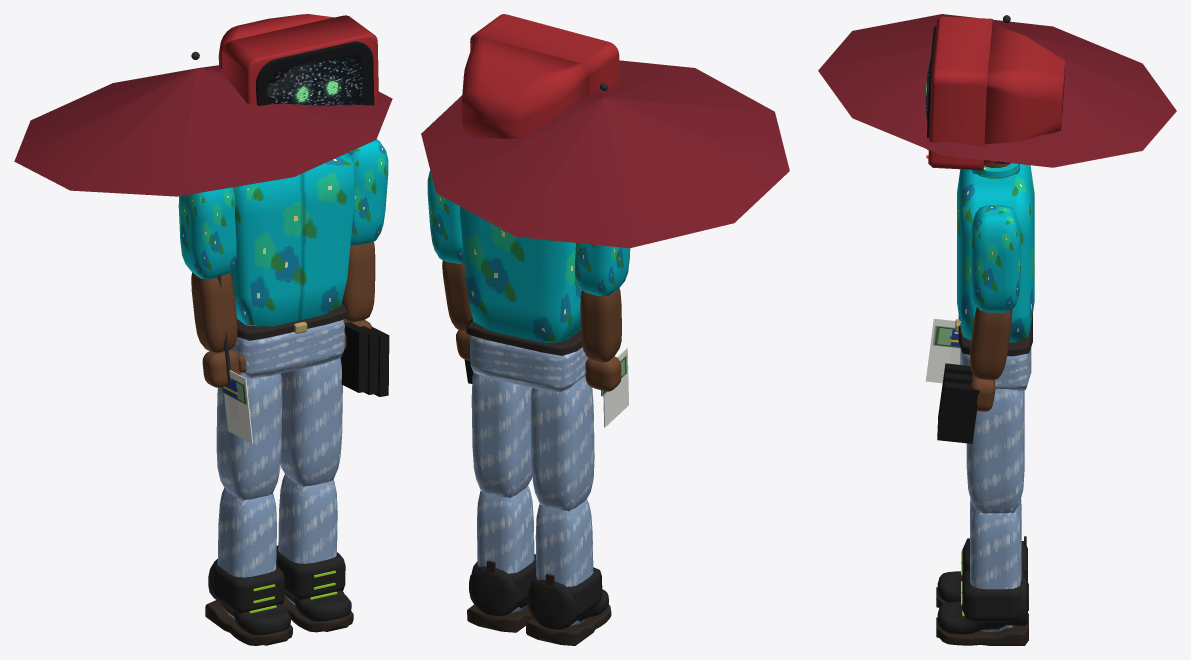
Rendered from tony.glb.
3 views of the same model, side by side, from view 1: azimuth 30°, elevation 25°; view 2: azimuth 150°, elevation 25°; view 3: azimuth 270°, elevation 25° (orthographic). The views are drawn at different scales.
Visible parts, largest first — view 1: p35_prop_umbrella, p35_torso, p35_knee0, p35_head, p35_knee1, p35_hip1, p35_hip0, p35_sh0, p35_body, p35_screen, p35_sh1, p35_el0 (+7 smaller); view 2: p35_prop_umbrella, p35_head, p35_torso, p35_knee0, p35_knee1, p35_hip0, p35_hip1, p35_body, p35_el0, p35_sh0, p35_sh1, p35_el1 (+3 smaller); view 3: p35_prop_umbrella, p35_head, p35_knee1, p35_torso, p35_hip1, p35_sh1, p35_el1, p35_tape2, p35_knee0, p35_upper, p35_body, p35_prop_form (+1 smaller).
Part boxes in pixels (<box>): p35_prop_umbrella: <box>14,51,392,385</box>; p35_torso: <box>230,153,355,326</box>; p35_knee0: <box>205,488,292,645</box>; p35_head: <box>218,14,378,105</box>; p35_knee1: <box>276,474,353,632</box>; p35_hip1: <box>280,358,342,486</box>; p35_hip0: <box>216,373,282,500</box>; p35_sh0: <box>178,187,236,279</box>; p35_body: <box>231,320,344,378</box>; p35_screen: <box>269,56,362,105</box>; p35_sh1: <box>348,139,388,245</box>; p35_el0: <box>191,272,237,353</box>; p35_prop_umbrella: <box>421,60,789,248</box>; p35_head: <box>461,14,619,138</box>; p35_torso: <box>459,206,581,342</box>; p35_knee0: <box>526,499,611,645</box>; p35_knee1: <box>467,485,536,632</box>; p35_hip0: <box>530,376,594,511</box>; p35_hip1: <box>471,373,532,497</box>; p35_body: <box>470,335,588,392</box>; p35_el0: <box>580,288,621,362</box>; p35_sh0: <box>575,243,630,296</box>; p35_sh1: <box>427,170,464,263</box>; p35_el1: <box>442,260,472,331</box>; p35_prop_umbrella: <box>818,14,1176,167</box>; p35_head: <box>926,16,1064,170</box>; p35_knee1: <box>936,506,1028,645</box>; p35_torso: <box>957,164,1034,342</box>; p35_hip1: <box>966,389,1024,513</box>; p35_sh1: <box>970,205,1020,312</box>; p35_el1: <box>970,306,1012,379</box>; p35_tape2: <box>937,382,979,443</box>; p35_knee0: <box>936,498,1028,610</box>; p35_upper: <box>955,163,1032,356</box>; p35_body: <box>960,347,1031,391</box>; p35_prop_form: <box>926,318,955,383</box>.
Bounding box in the file's own units: 1.19 × 1.98 × 1.11.
Materials: 22 (8 with a texture image).
